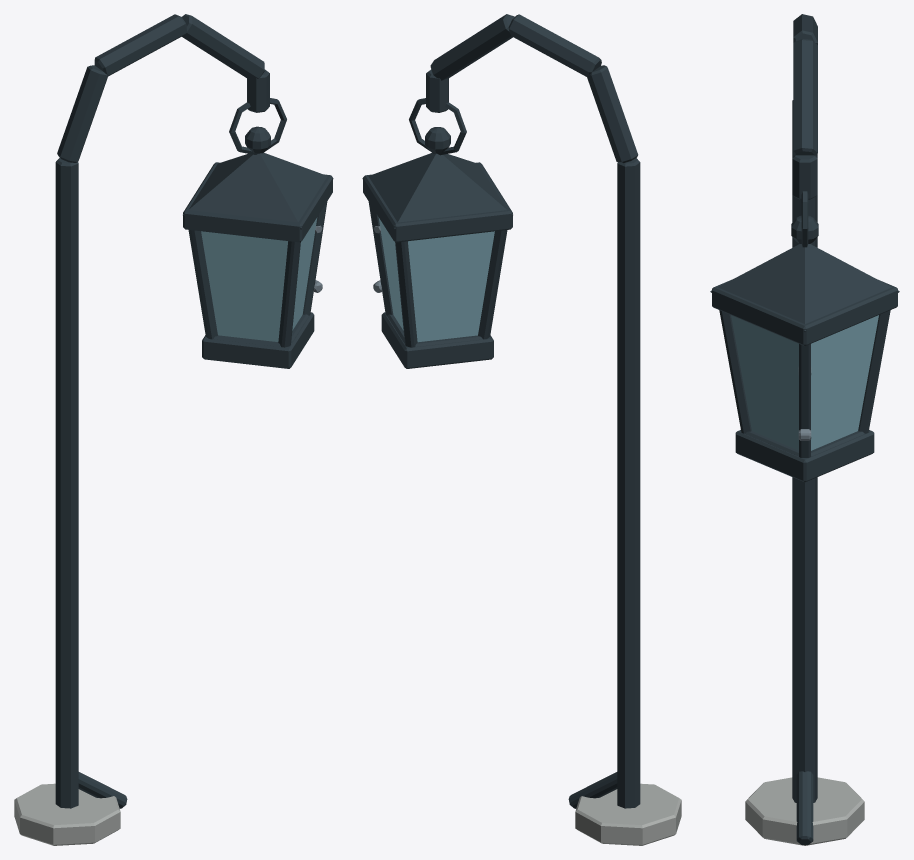
File: b18_shepherd_hook_lantern_light.glb
The picture shows the model from 3 angles, left to right: view 1: azimuth 30°, elevation 25°; view 2: azimuth 150°, elevation 25°; view 3: azimuth 270°, elevation 25°; orthographic projection. The views are drawn at different scales.
Parts seen in each view (by area): view 1: b18_shepherd_hook_lantern_light; view 2: b18_shepherd_hook_lantern_light; view 3: b18_shepherd_hook_lantern_light.
Boxes of the visible parts, x1,y1,x2,y2 form: b18_shepherd_hook_lantern_light: [14, 14, 333, 845]; b18_shepherd_hook_lantern_light: [362, 14, 681, 845]; b18_shepherd_hook_lantern_light: [710, 14, 899, 845].
Size of the model in its own units: 0.7901 by 1.88 by 0.3802.
